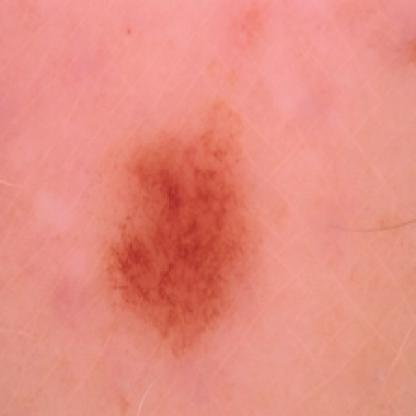benign: (98, 126, 262, 336)
